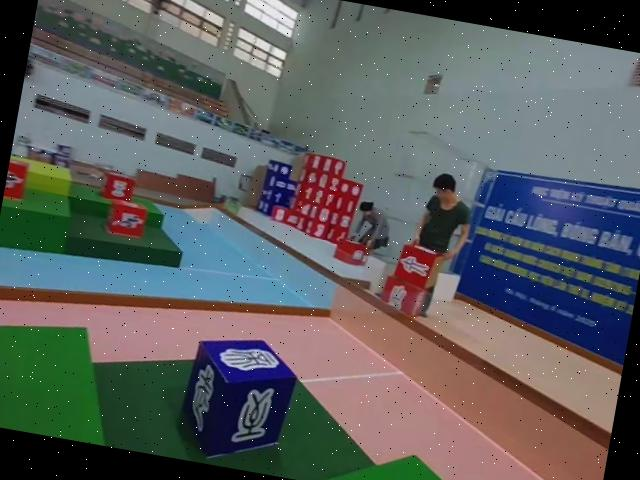R2 Fake Blue: (175, 332, 302, 476)
